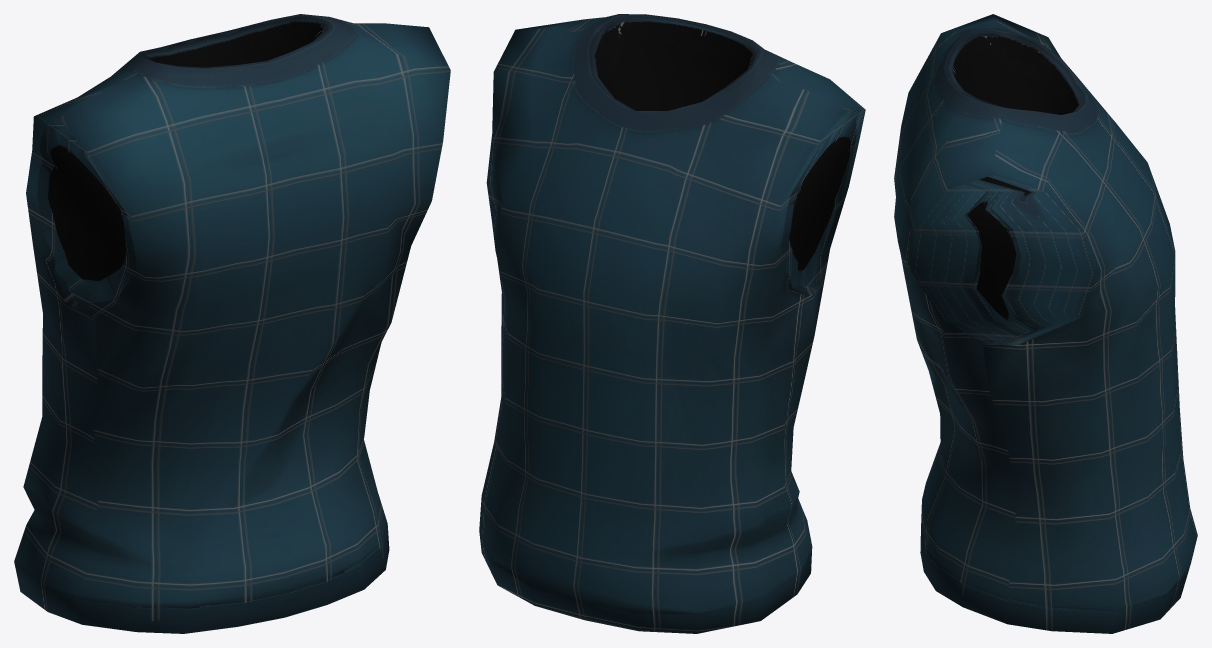
Rendered from av_fahad_body.glb.
3 views of the same model, side by side, from view 1: azimuth 30°, elevation 25°; view 2: azimuth 150°, elevation 25°; view 3: azimuth 270°, elevation 25° (orthographic). The views are drawn at different scales.
Parts seen in each view (by area): view 1: Wolf3D_Outfit_Top; view 2: Wolf3D_Outfit_Top; view 3: Wolf3D_Outfit_Top.
Part boxes in pixels (x1,y1,x2,y2): Wolf3D_Outfit_Top: (14,14,450,633); Wolf3D_Outfit_Top: (479,14,865,633); Wolf3D_Outfit_Top: (894,14,1197,633).
Bounding box in the file's own units: 0.7335 × 1.08 × 0.5848.
1 material, 1 textured.
